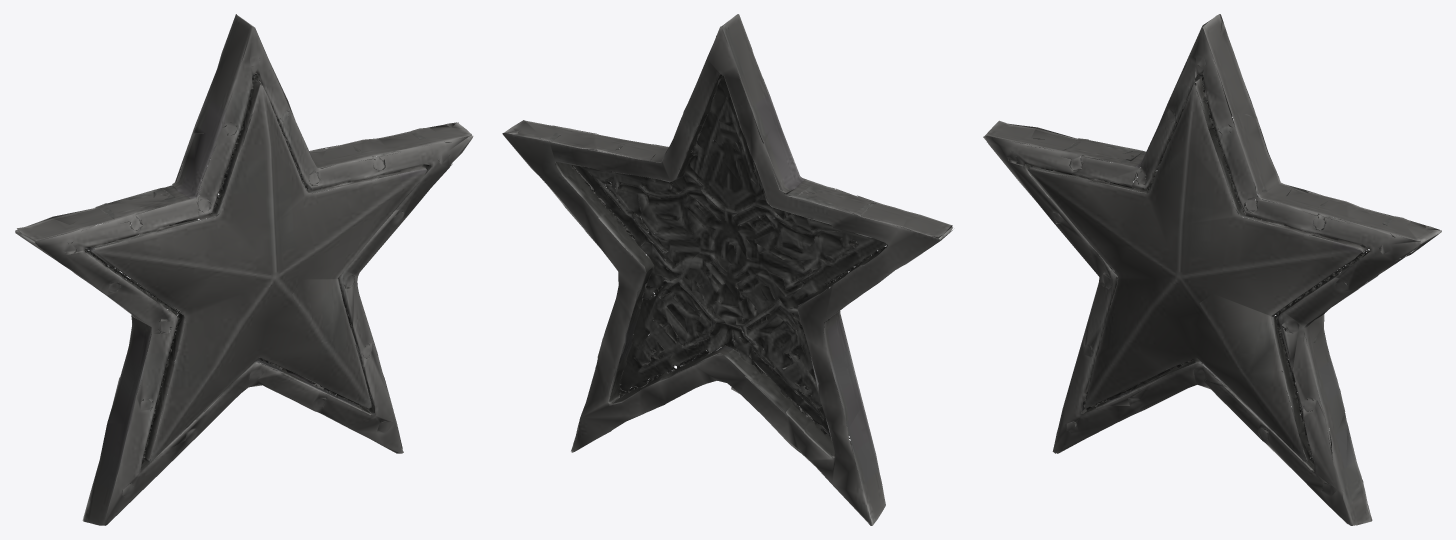
File: piece_chest_star.glb
3 renders of one model, left to right at view 1: azimuth 30°, elevation 25°; view 2: azimuth 150°, elevation 25°; view 3: azimuth 330°, elevation 25°, orthographic.
Visible parts, largest first — view 1: trait_chest_star; view 2: trait_chest_star; view 3: trait_chest_star.
Part boxes in pixels (left/top/right/bottom): trait_chest_star: left=15, top=14, right=473, bottom=525; trait_chest_star: left=502, top=14, right=952, bottom=525; trait_chest_star: left=983, top=14, right=1441, bottom=525.
Size of the model in its own units: 0.2081 by 0.2104 by 0.0332.
Materials: 1 (1 with a texture image).
